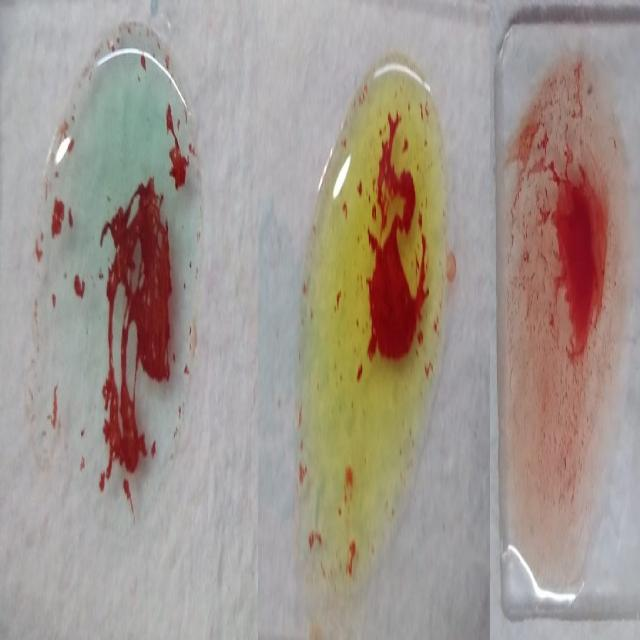A: (38, 22, 201, 538)
B: (304, 62, 439, 567)
D: (511, 44, 616, 593)
